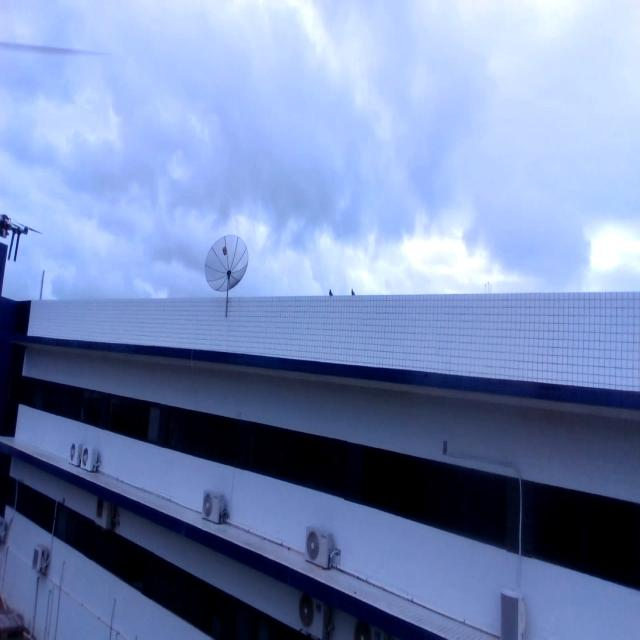-uav-: (1, 197, 44, 282)
